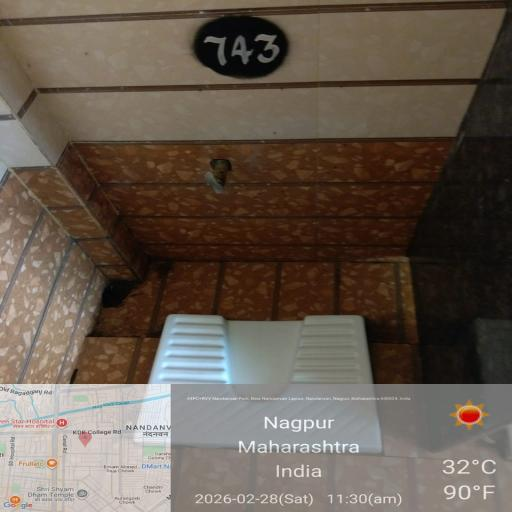clean_floor: (0, 224, 494, 512), (16, 50, 512, 166)
clean_indian: (155, 312, 404, 453)
